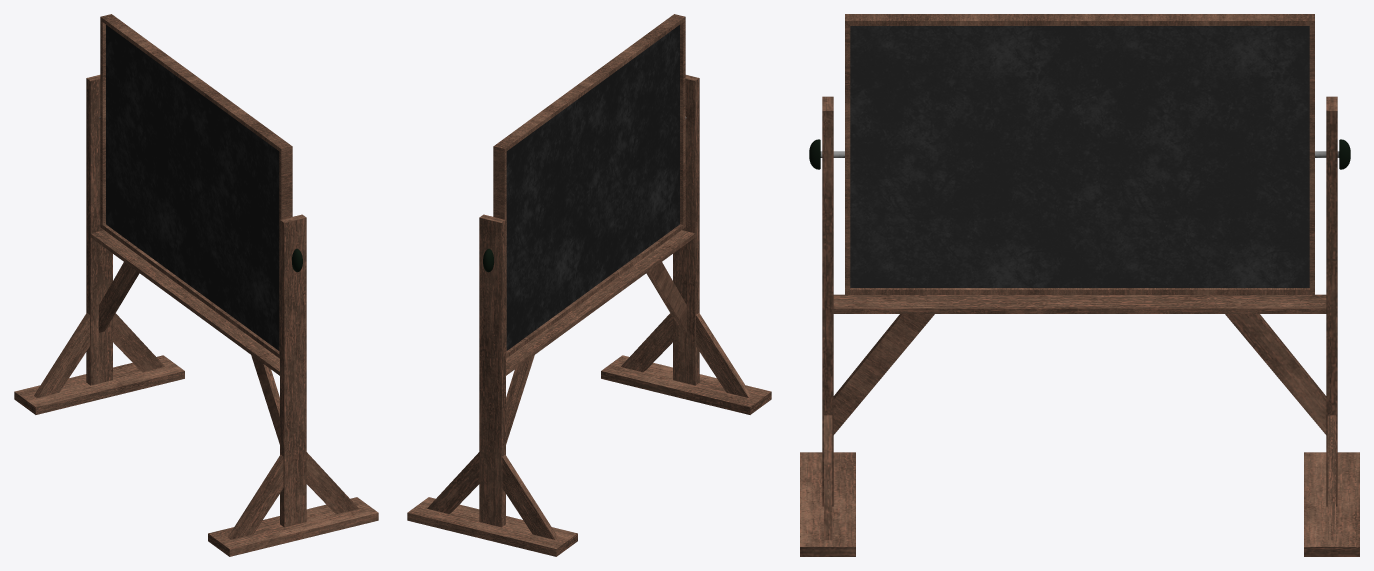
File: reversible_chalkboard.glb
3 renders of one model, left to right at view 1: azimuth 30°, elevation 25°; view 2: azimuth 150°, elevation 25°; view 3: azimuth 270°, elevation 25°, orthographic. The views are drawn at different scales.
Visible parts, largest first — view 1: Cube.001, Cube; view 2: Cube.001, Cube; view 3: Cube.001, Cube.
Boxes of the visible parts, <box> form: Cube.001: <box>99,14,302,358</box>; Cube: <box>14,75,378,556</box>; Cube.001: <box>483,14,686,358</box>; Cube: <box>407,75,771,556</box>; Cube.001: <box>809,14,1350,294</box>; Cube: <box>800,96,1359,556</box>.
Size of the model in its own units: 4 by 9.7 by 10.
Materials: 1 (1 with a texture image).
